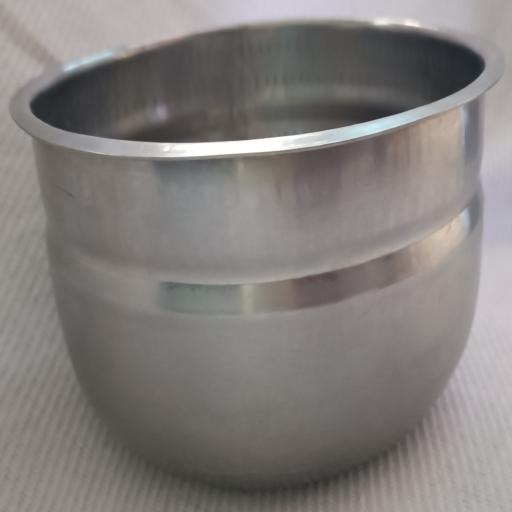vessel: (11, 19, 503, 487)
